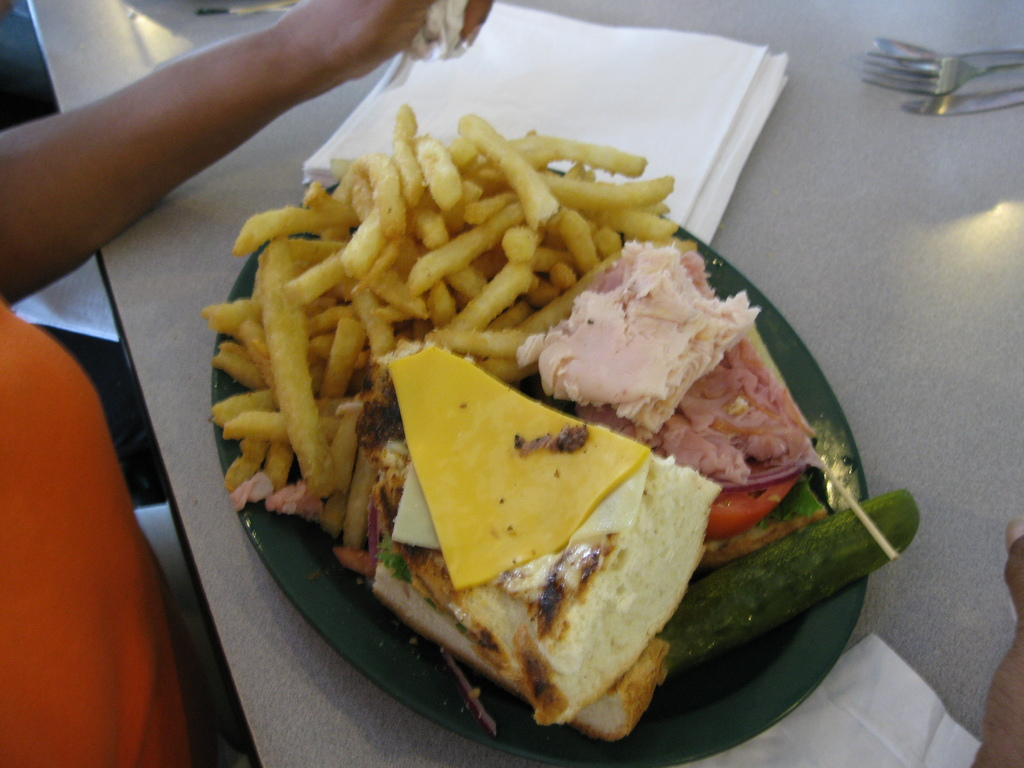French fries: (181, 161, 637, 540)
